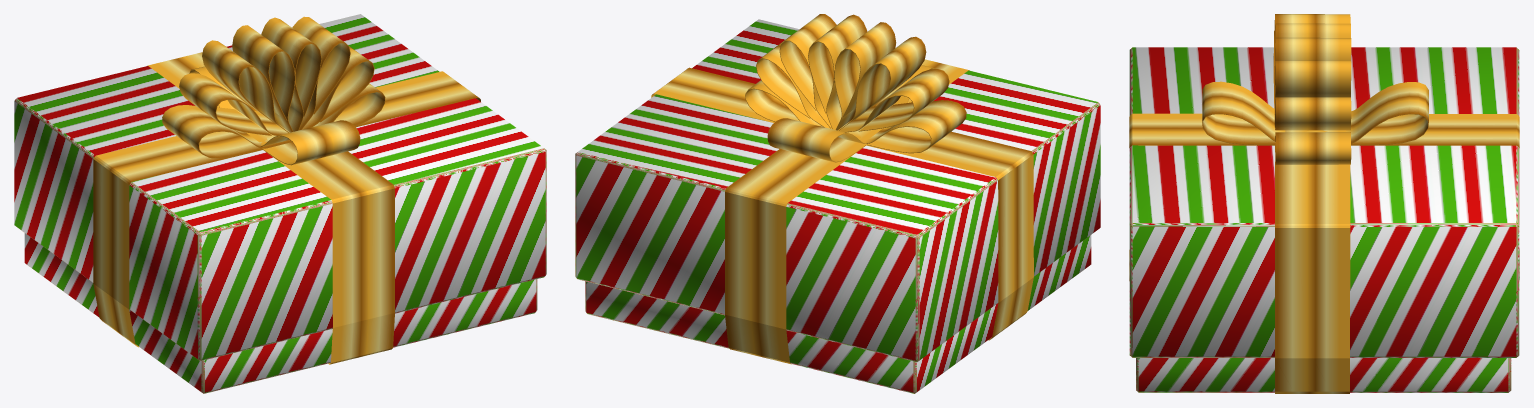
The model's file is regalo2.obj.
3 renders of one model, left to right at view 1: azimuth 30°, elevation 25°; view 2: azimuth 150°, elevation 25°; view 3: azimuth 270°, elevation 25°, orthographic. The views are drawn at different scales.
Visible parts, largest first — view 1: Box04.001, Plane06.001, Box03.001, Plane04.001, Plane09.001, Plane10.001, Plane11.001, Plane08.001, Plane07.001; view 2: Box04.001, Plane06.001, Box03.001, Plane04.001, Plane09.001, Plane10.001, Plane11.001, Plane08.001, Plane07.001; view 3: Box04.001, Plane04.001, Box03.001, Plane07.001, Plane06.001, Plane10.001, Plane09.001, Plane08.001, Plane11.001.
Boxes of the visible parts, left/top/right/bottom form: Box04.001: left=14, top=14, right=546, bottom=361; Plane06.001: left=147, top=52, right=394, bottom=364; Box03.001: left=24, top=233, right=537, bottom=393; Plane04.001: left=93, top=71, right=480, bottom=347; Plane09.001: left=232, top=17, right=321, bottom=132; Plane10.001: left=202, top=16, right=350, bottom=132; Plane11.001: left=179, top=46, right=374, bottom=135; Plane08.001: left=162, top=83, right=385, bottom=158; Plane07.001: left=189, top=66, right=360, bottom=165; Box04.001: left=575, top=19, right=1100, bottom=361; Plane06.001: left=725, top=59, right=969, bottom=364; Box03.001: left=585, top=235, right=1091, bottom=393; Plane04.001: left=651, top=67, right=1033, bottom=340; Plane09.001: left=808, top=14, right=896, bottom=130; Plane10.001: left=779, top=14, right=926, bottom=130; Plane11.001: left=756, top=34, right=949, bottom=132; Plane08.001: left=745, top=80, right=966, bottom=153; Plane07.001: left=767, top=65, right=934, bottom=162; Box04.001: left=1129, top=47, right=1519, bottom=357; Plane04.001: left=1275, top=162, right=1350, bottom=393; Box03.001: left=1136, top=358, right=1511, bottom=392; Plane07.001: left=1202, top=81, right=1428, bottom=145; Plane06.001: left=1129, top=113, right=1519, bottom=280; Plane10.001: left=1274, top=14, right=1351, bottom=124; Plane09.001: left=1274, top=23, right=1351, bottom=125; Plane08.001: left=1273, top=53, right=1351, bottom=164; Plane11.001: left=1274, top=30, right=1351, bottom=130.
Size of the model in its own units: 0.7666 by 0.5447 by 0.7046.
Materials: 3 (3 with a texture image).
